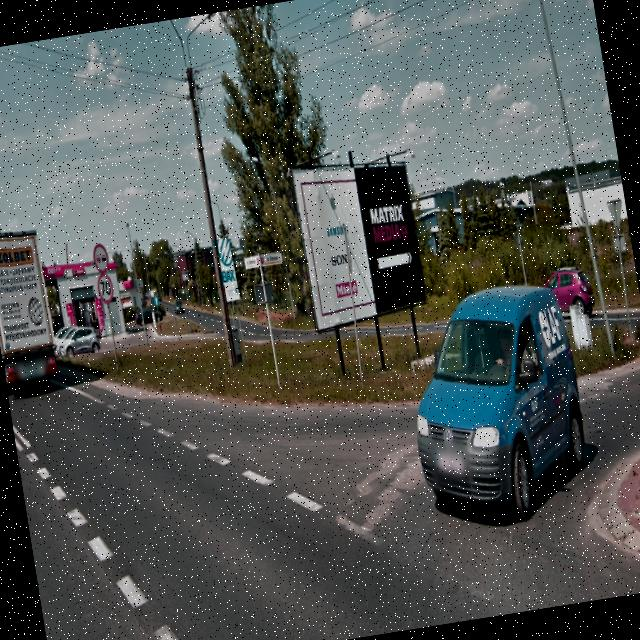Zakaz wyprzedzania: (91, 242, 111, 274)
